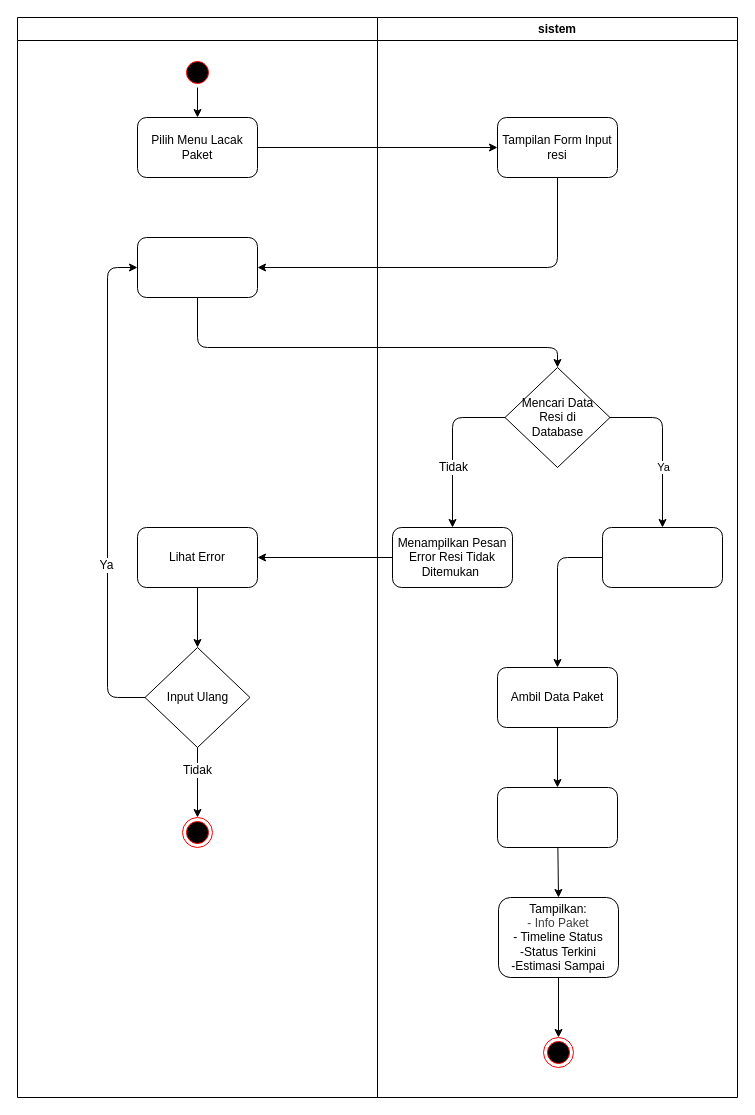
Some shapes in this 755 by 1115 pixel diagram are drawn without their labels. Each missing label, with the box of its shape:
Ambil History Tracking: (496, 786, 618, 848)
Input Nomor Resi: (136, 236, 258, 298)
pelanggan / penerima: (16, 16, 378, 1098)
Tampilan Halaman Utama: (602, 526, 722, 588)
